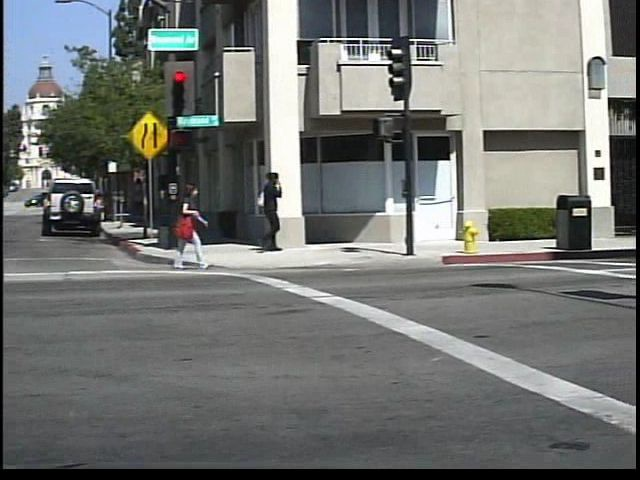person: (175, 181, 226, 272), (256, 168, 299, 254)
